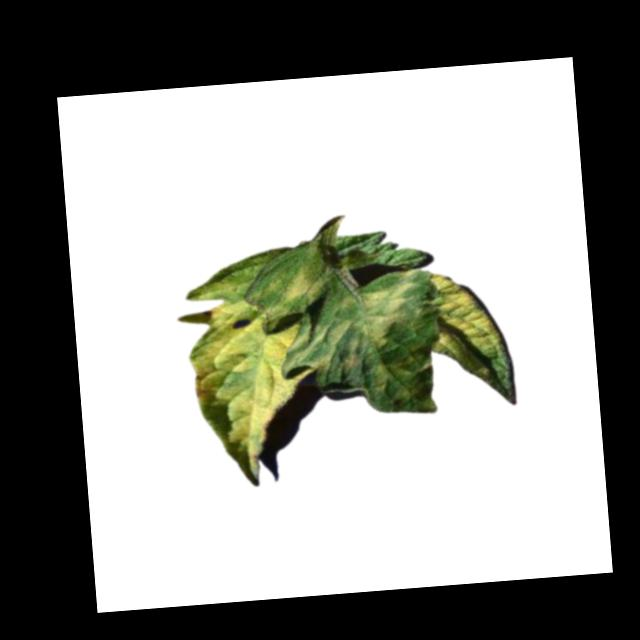Leaf_Mold: (180, 266, 319, 483), (423, 266, 504, 388), (343, 268, 421, 350), (371, 345, 437, 419), (281, 314, 349, 375), (286, 267, 326, 306)
